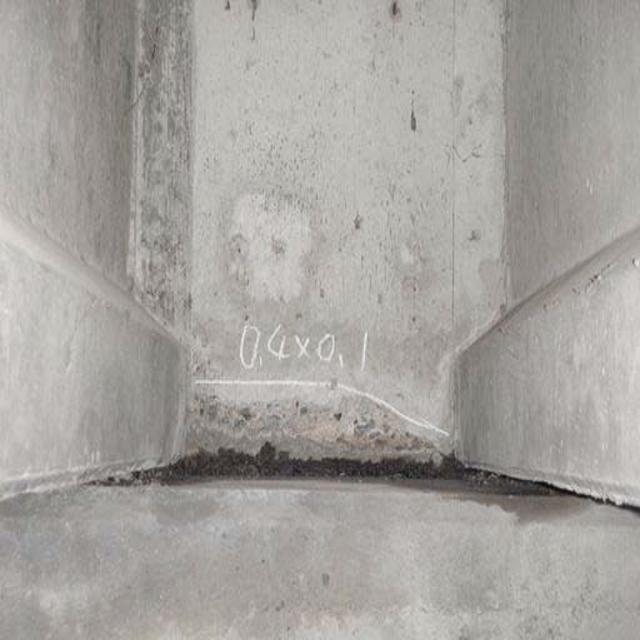spalling: (185, 369, 464, 490)
